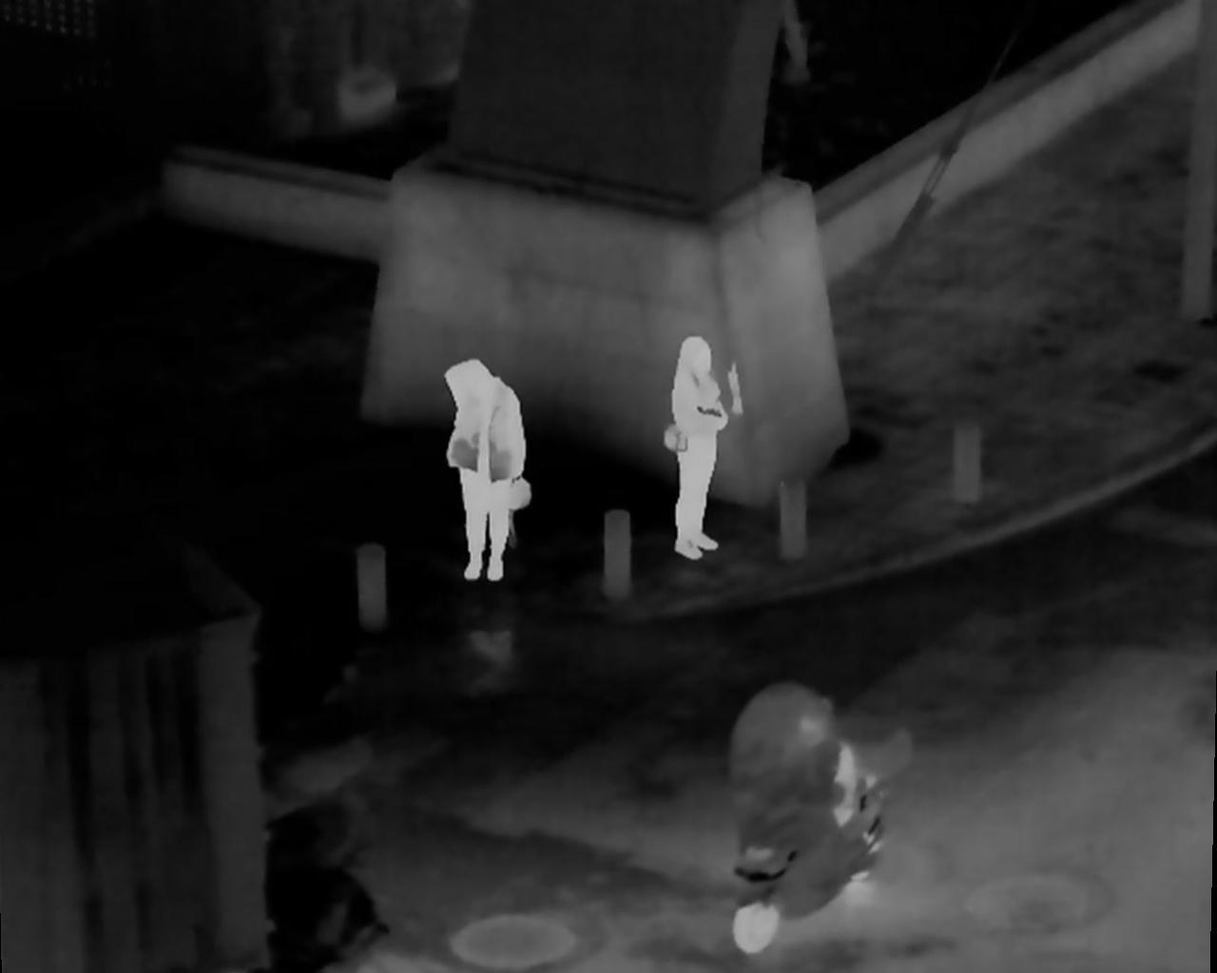person: (759, 693, 866, 926), (443, 355, 531, 586), (671, 335, 733, 555)
